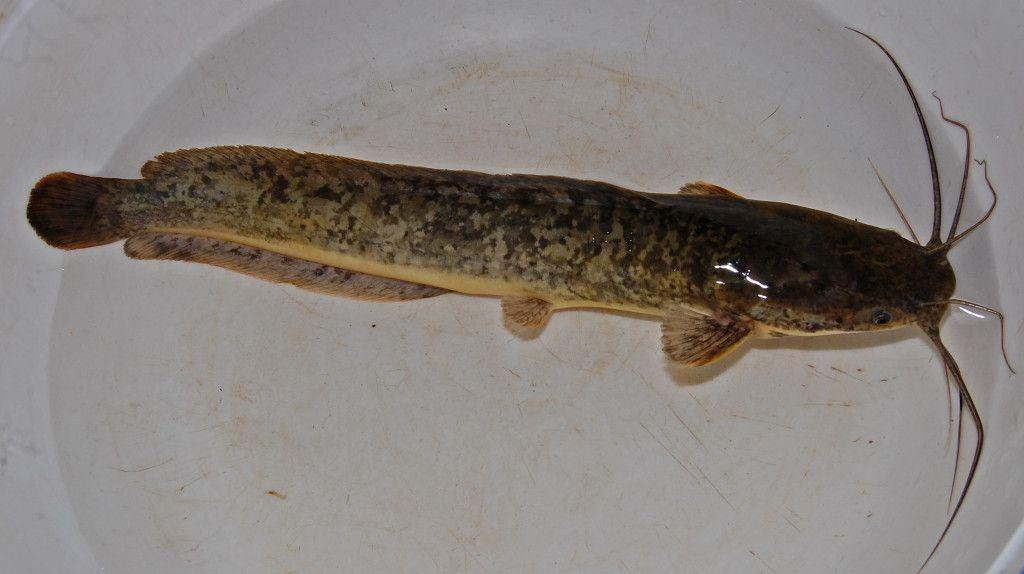Catfish: (25, 126, 992, 410)
